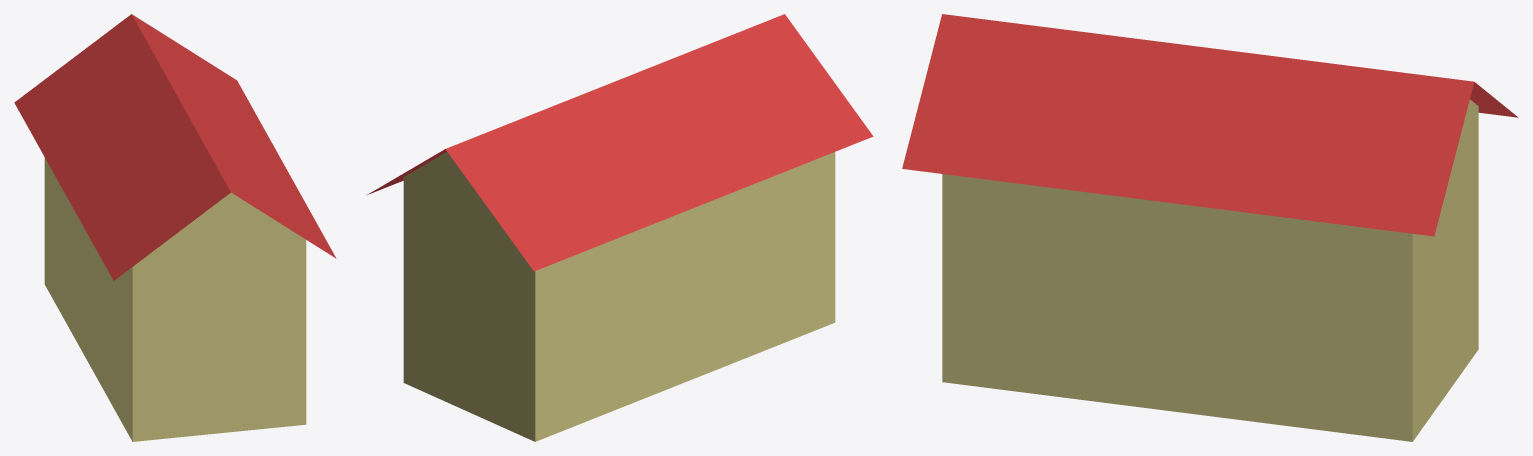
The picture shows the model from 3 angles, left to right: view 1: azimuth 30°, elevation 25°; view 2: azimuth 150°, elevation 25°; view 3: azimuth 270°, elevation 25°; orthographic projection. The views are drawn at different scales.
Parts seen in each view (by area): view 1: group_5, group_3, group_4; view 2: group_5, group_3, group_4; view 3: group_5, group_3, group_4.
Boxes of the visible parts, left/top/right/bottom form: group_5: left=44, top=157, right=306, bottom=441; group_3: left=14, top=14, right=335, bottom=280; group_4: left=73, top=14, right=336, bottom=280; group_5: left=403, top=152, right=835, bottom=441; group_3: left=445, top=14, right=873, bottom=271; group_4: left=366, top=135, right=871, bottom=207; group_5: left=942, top=99, right=1478, bottom=441; group_3: left=904, top=18, right=1474, bottom=236; group_4: left=902, top=14, right=1518, bottom=168.
Bounding box in the file's own units: 10.23 × 14.31 × 8.22.
